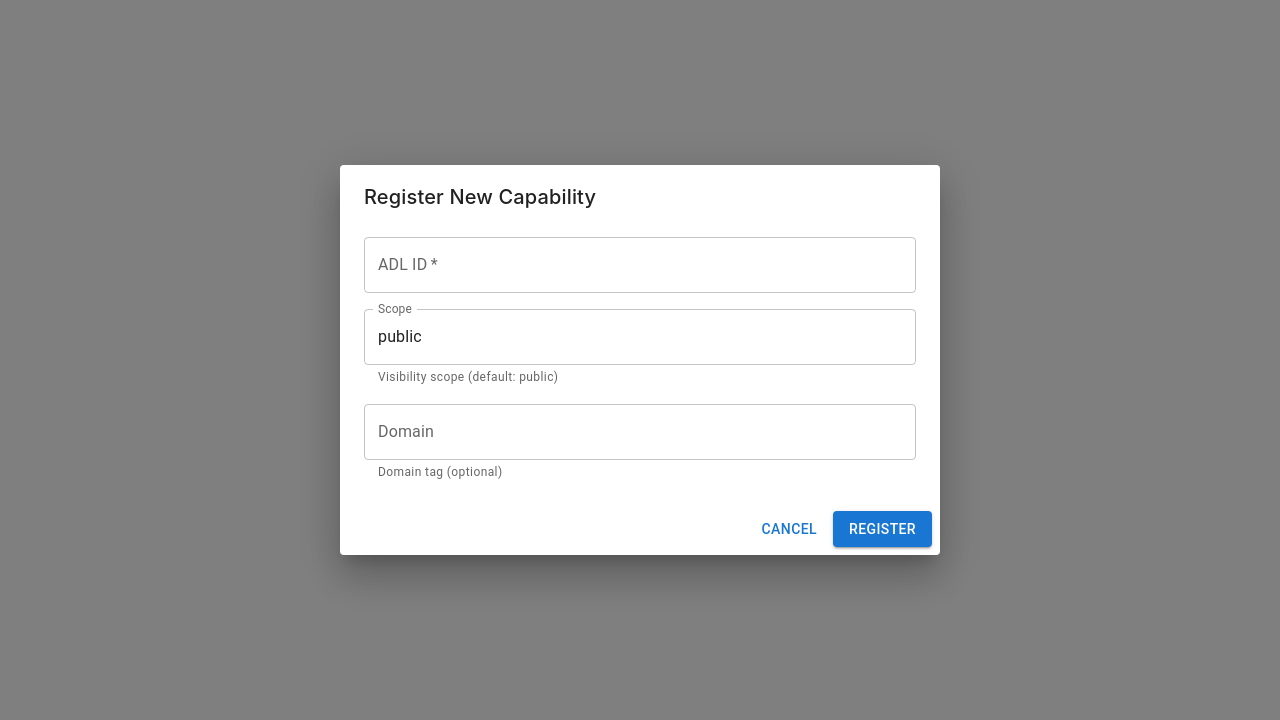
Scenario: RegisterDialog › shows validation error when submitting without adl_id
This screenshot has width=1280, height=720.
Click the button with test id "register-submit-button". click: {"x": 882, "y": 529}
box: left=833, top=511, right=932, bottom=547
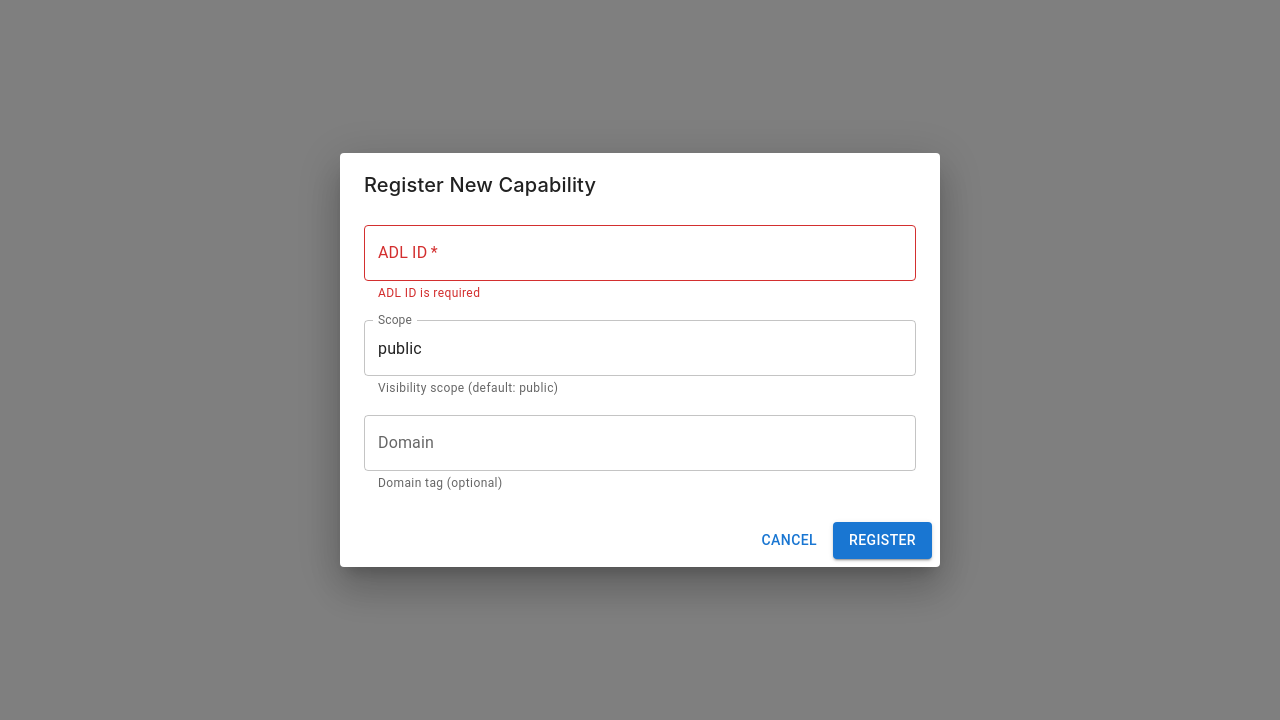
Now the text "ADL ID is required" is shown, box left=378, top=286, right=480, bottom=300
